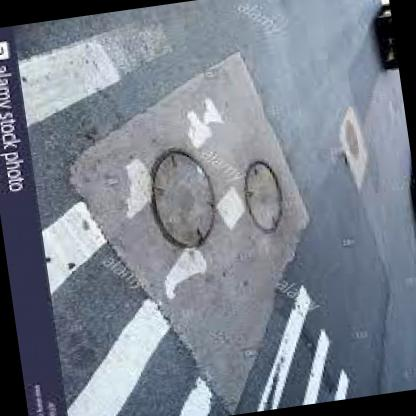manholes: (133, 131, 232, 268), (226, 142, 303, 255), (330, 109, 370, 175)
